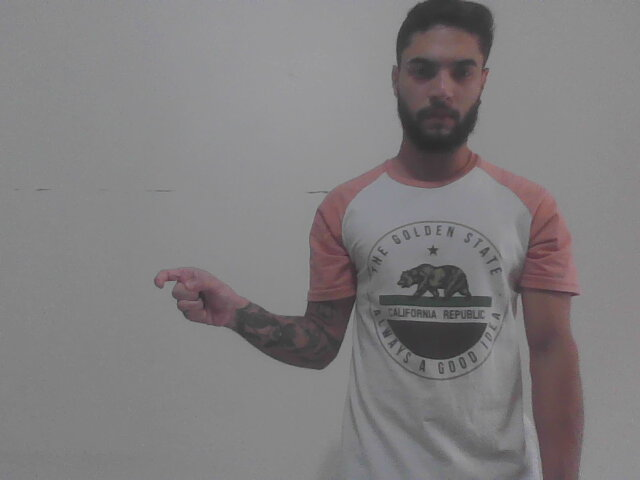x: (149, 252, 243, 342)
